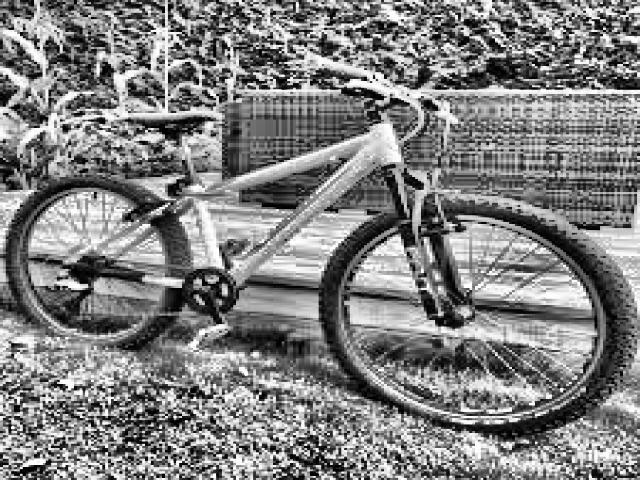cranks_set: (180, 266, 241, 342)
rear_derailleur: (56, 266, 92, 317)
saddle: (120, 108, 238, 137)
wheel: (320, 188, 638, 435), (5, 168, 192, 346)
